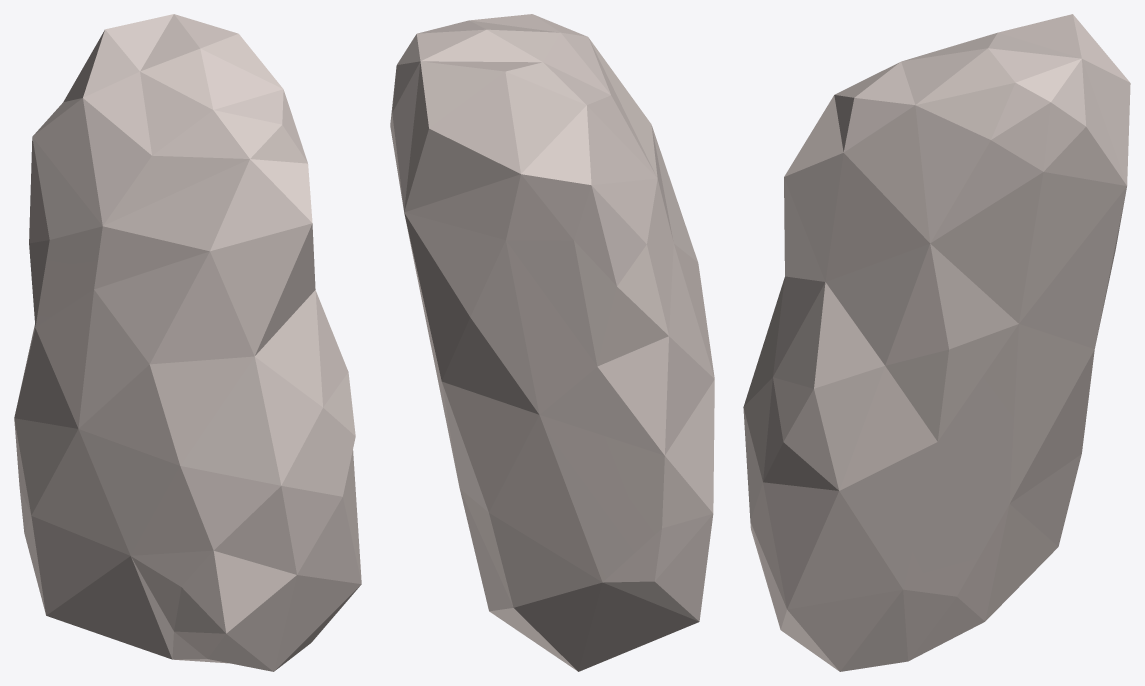
Rendered from rock_007.fbx.
The picture shows the model from 3 angles, left to right: view 1: azimuth 30°, elevation 25°; view 2: azimuth 150°, elevation 25°; view 3: azimuth 270°, elevation 25°; orthographic projection. The views are drawn at different scales.
Parts seen in each view (by area): view 1: rock.007; view 2: rock.007; view 3: rock.007.
Part boxes in pixels (box(x1,y1,x2,y2)): rock.007: box(14, 14, 361, 671); rock.007: box(390, 14, 714, 671); rock.007: box(743, 14, 1130, 671).
Size of the model in its own units: 875 by 1765 by 997.
1 material, 1 textured.
